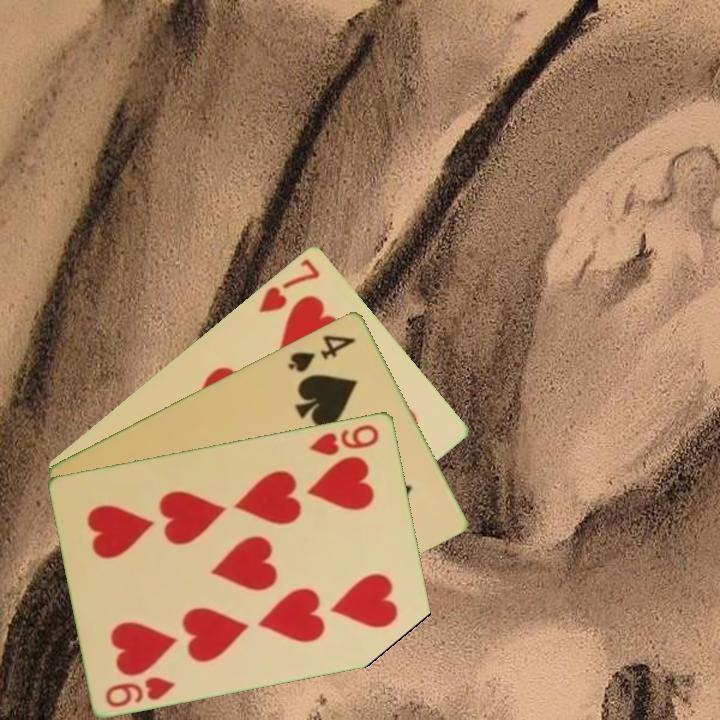4s: (284, 330, 359, 375)
7h: (255, 254, 323, 315)
9h: (306, 420, 382, 458), (102, 672, 178, 710)
